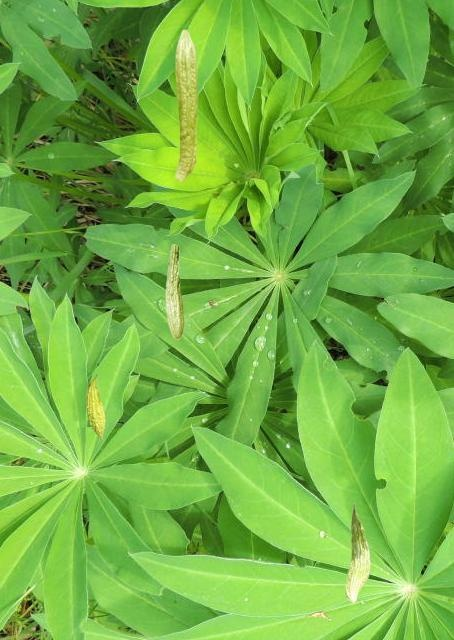ampalaya: (174, 29, 198, 182), (344, 502, 370, 604), (165, 243, 184, 340), (85, 373, 105, 441)
